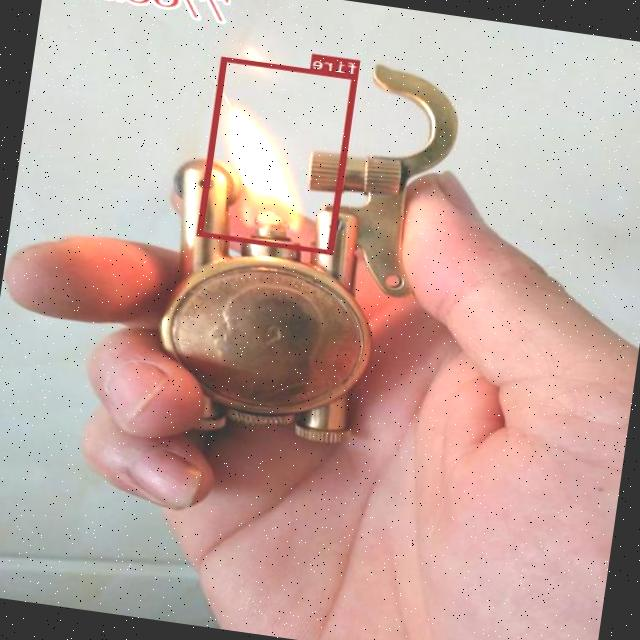fire: (198, 56, 360, 254)
